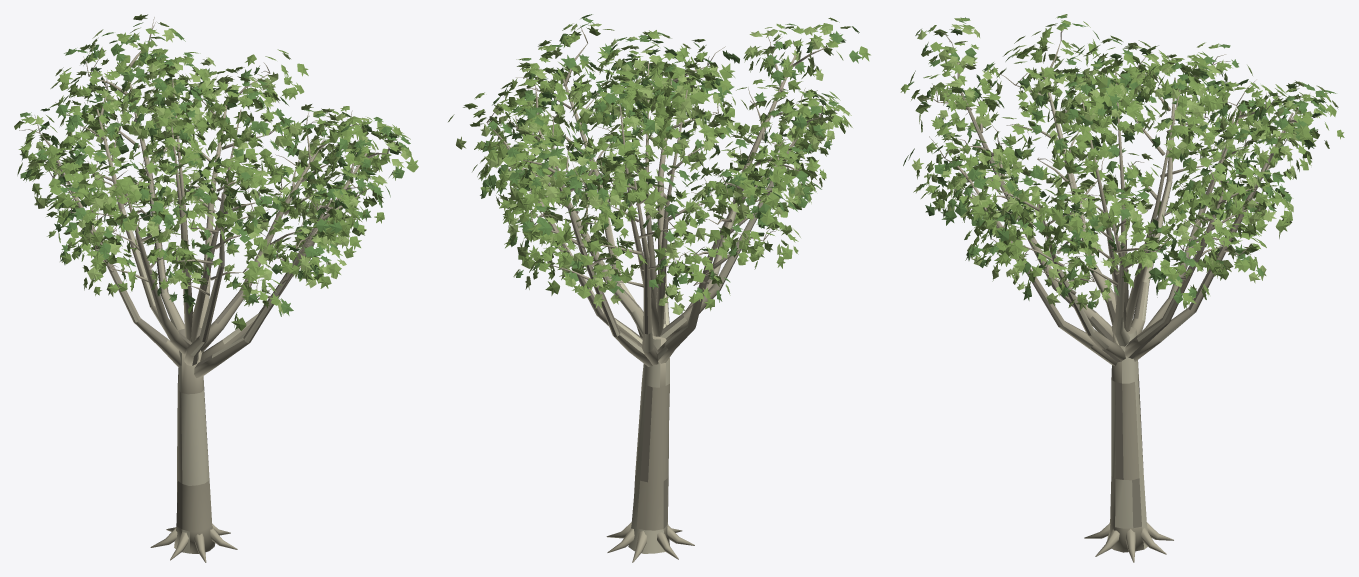
File: tree_plane_b.glb
The picture shows the model from 3 angles, left to right: view 1: azimuth 30°, elevation 25°; view 2: azimuth 150°, elevation 25°; view 3: azimuth 270°, elevation 25°; orthographic projection. The views are drawn at different scales.
Visible parts, largest first — view 1: tree_plane_b_PlaneLeaf, tree_plane_b_PlaneBark, tree_plane_b_PlaneLeafDark, tree_plane_b_PlaneLeafLight, tree_plane_b_PlaneBarkPale, tree_plane_b_PlaneBarkBrown; view 2: tree_plane_b_PlaneLeaf, tree_plane_b_PlaneBark, tree_plane_b_PlaneLeafLight, tree_plane_b_PlaneLeafDark, tree_plane_b_PlaneBarkPale, tree_plane_b_PlaneBarkBrown; view 3: tree_plane_b_PlaneLeaf, tree_plane_b_PlaneBark, tree_plane_b_PlaneLeafDark, tree_plane_b_PlaneLeafLight, tree_plane_b_PlaneBarkPale, tree_plane_b_PlaneBarkBrown.
Boxes of the visible parts, box(x1,y1,x2,y2) form: tree_plane_b_PlaneLeaf: box(14, 14, 418, 330); tree_plane_b_PlaneBark: box(19, 17, 397, 562); tree_plane_b_PlaneLeafDark: box(20, 22, 410, 316); tree_plane_b_PlaneLeafLight: box(25, 29, 409, 315); tree_plane_b_PlaneBarkPale: box(56, 110, 359, 553); tree_plane_b_PlaneBarkBrown: box(138, 175, 331, 528); tree_plane_b_PlaneLeaf: box(448, 17, 870, 310); tree_plane_b_PlaneBark: box(486, 25, 840, 562); tree_plane_b_PlaneLeafLight: box(456, 23, 852, 314); tree_plane_b_PlaneLeafDark: box(480, 14, 862, 302); tree_plane_b_PlaneBarkPale: box(522, 76, 796, 553); tree_plane_b_PlaneBarkBrown: box(538, 80, 783, 528); tree_plane_b_PlaneLeaf: box(900, 14, 1344, 308); tree_plane_b_PlaneBark: box(922, 30, 1323, 562); tree_plane_b_PlaneLeafDark: box(903, 15, 1336, 309); tree_plane_b_PlaneLeafLight: box(912, 21, 1338, 310); tree_plane_b_PlaneBarkPale: box(953, 76, 1228, 549); tree_plane_b_PlaneBarkBrown: box(953, 76, 1292, 528).
Bounding box in the file's own units: 11.35 × 15.47 × 12.84.
